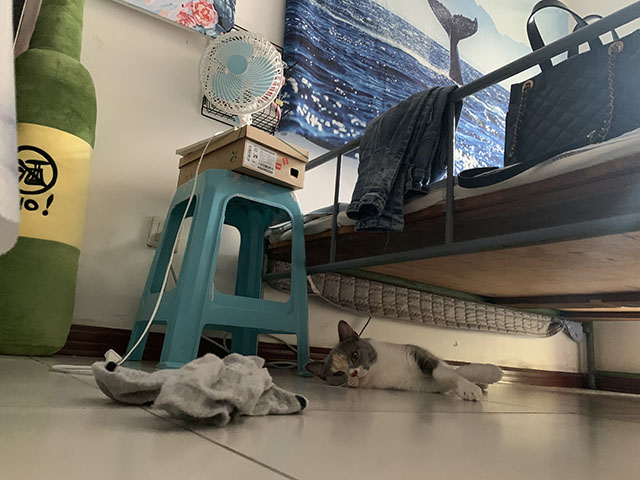bed: (264, 1, 640, 392)
socks: (91, 352, 310, 427)
stool: (122, 170, 313, 377)
wire: (48, 129, 372, 377)
